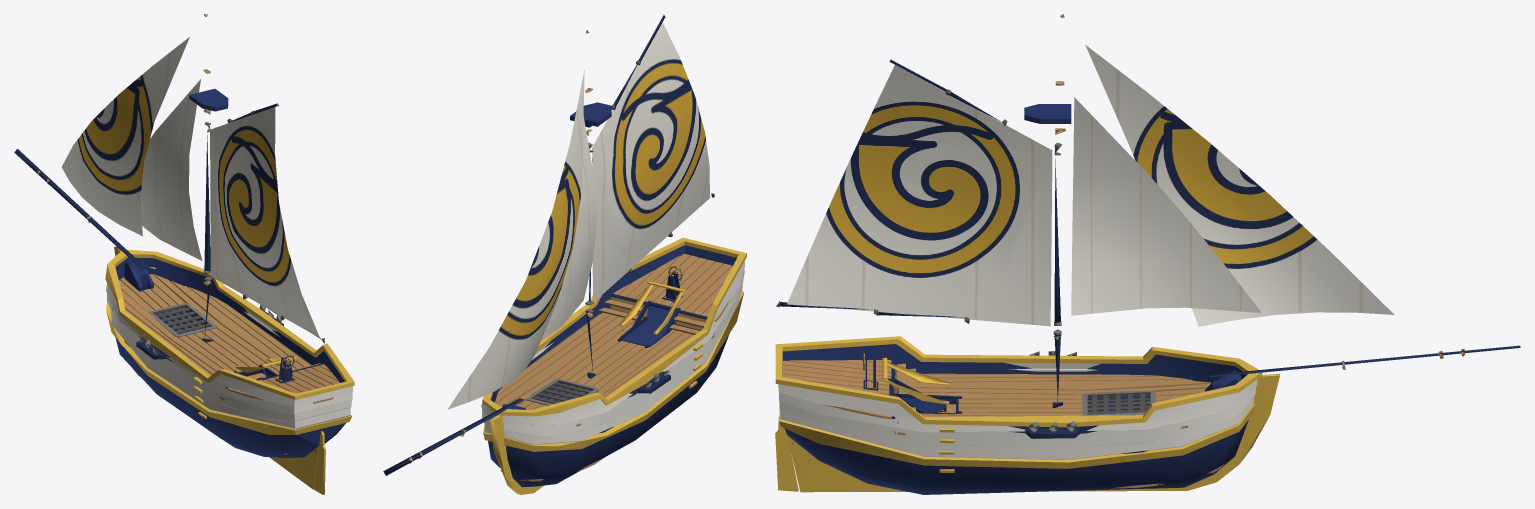
Rendered from sloop.glb.
The picture shows the model from 3 angles, left to right: view 1: azimuth 30°, elevation 25°; view 2: azimuth 150°, elevation 25°; view 3: azimuth 270°, elevation 25°; orthographic projection. The views are drawn at different scales.
Parts seen in each view (by area): view 1: Main hull_Boat sketch mat_0, sails_Sail main sketch_0; view 2: Main hull_Boat sketch mat_0, sails_Sail main sketch_0; view 3: sails_Sail main sketch_0, Main hull_Boat sketch mat_0.
Part boxes in pixels (left/top/right/bottom): Main hull_Boat sketch mat_0: left=14, top=14, right=354, bottom=494; sails_Sail main sketch_0: left=61, top=37, right=319, bottom=337; Main hull_Boat sketch mat_0: left=383, top=14, right=746, bottom=494; sails_Sail main sketch_0: left=447, top=22, right=709, bottom=409; sails_Sail main sketch_0: left=787, top=44, right=1394, bottom=326; Main hull_Boat sketch mat_0: left=775, top=14, right=1520, bottom=494.
Size of the model in its own units: 4.85 by 14.08 by 19.96.
Materials: 2 (2 with a texture image).
